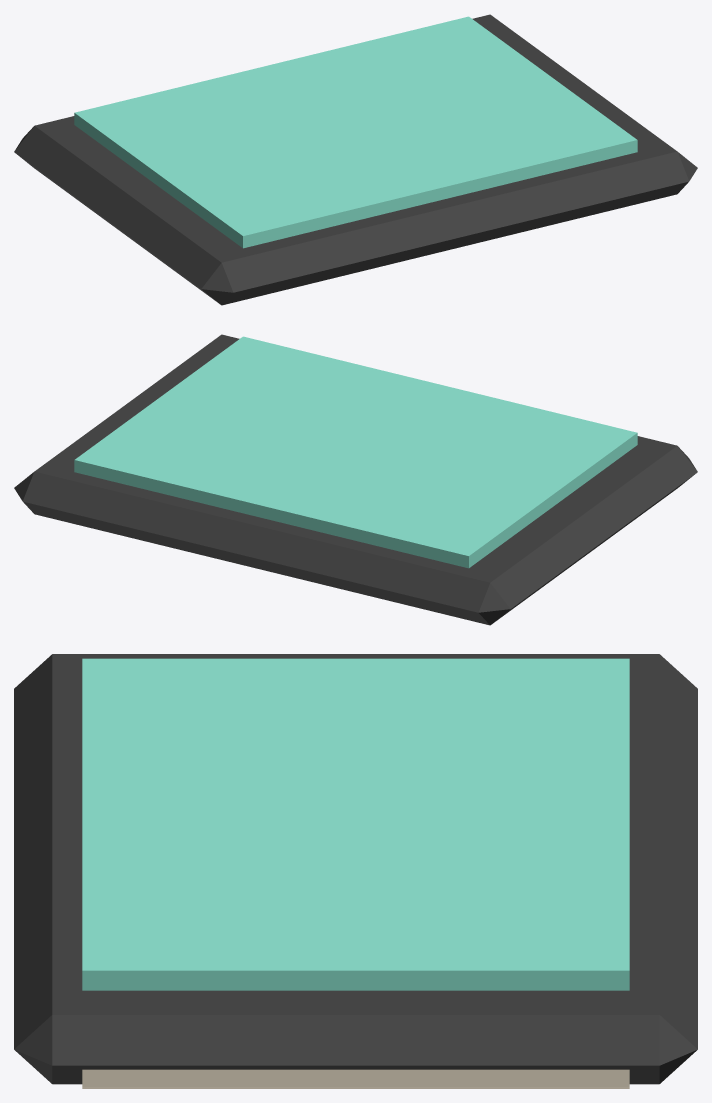
The picture shows the model from 3 angles, top to bottom: view 1: azimuth 30°, elevation 25°; view 2: azimuth 150°, elevation 25°; view 3: azimuth 270°, elevation 25°; orthographic projection. The views are drawn at different scales.
Parts seen in each view (by area): view 1: Drawing area, Tablet; view 2: Drawing area, Tablet; view 3: Drawing area, Tablet, Pen.
Part boxes in pixels (x1=…): Drawing area: x1=74, y1=16, x2=637, y2=248; Tablet: x1=14, y1=14, x2=697, y2=305; Drawing area: x1=74, y1=336, x2=637, y2=568; Tablet: x1=14, y1=334, x2=697, y2=625; Drawing area: x1=82, y1=658, x2=629, y2=990; Tablet: x1=14, y1=654, x2=697, y2=1084; Pen: x1=82, y1=1069, x2=629, y2=1088.
Size of the model in its own units: 0.34 by 0.036 by 0.25.
Materials: 1 (1 with a texture image).
